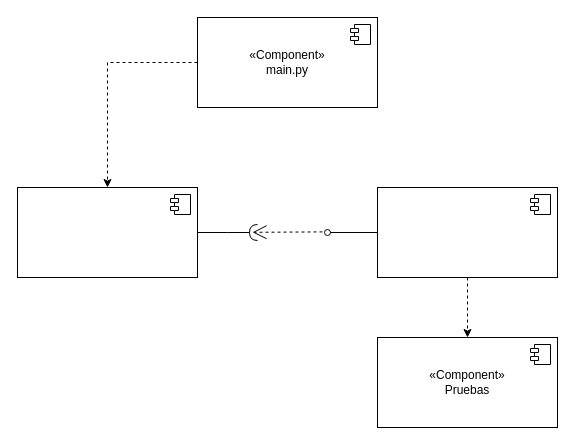
This 575x445 diagram has some shape labels left out. The centre of each missing label's shape, as x and y in pixels:
"«Component» crud" goes at point 107,232.
"«Component» Modelo" goes at point 467,232.
